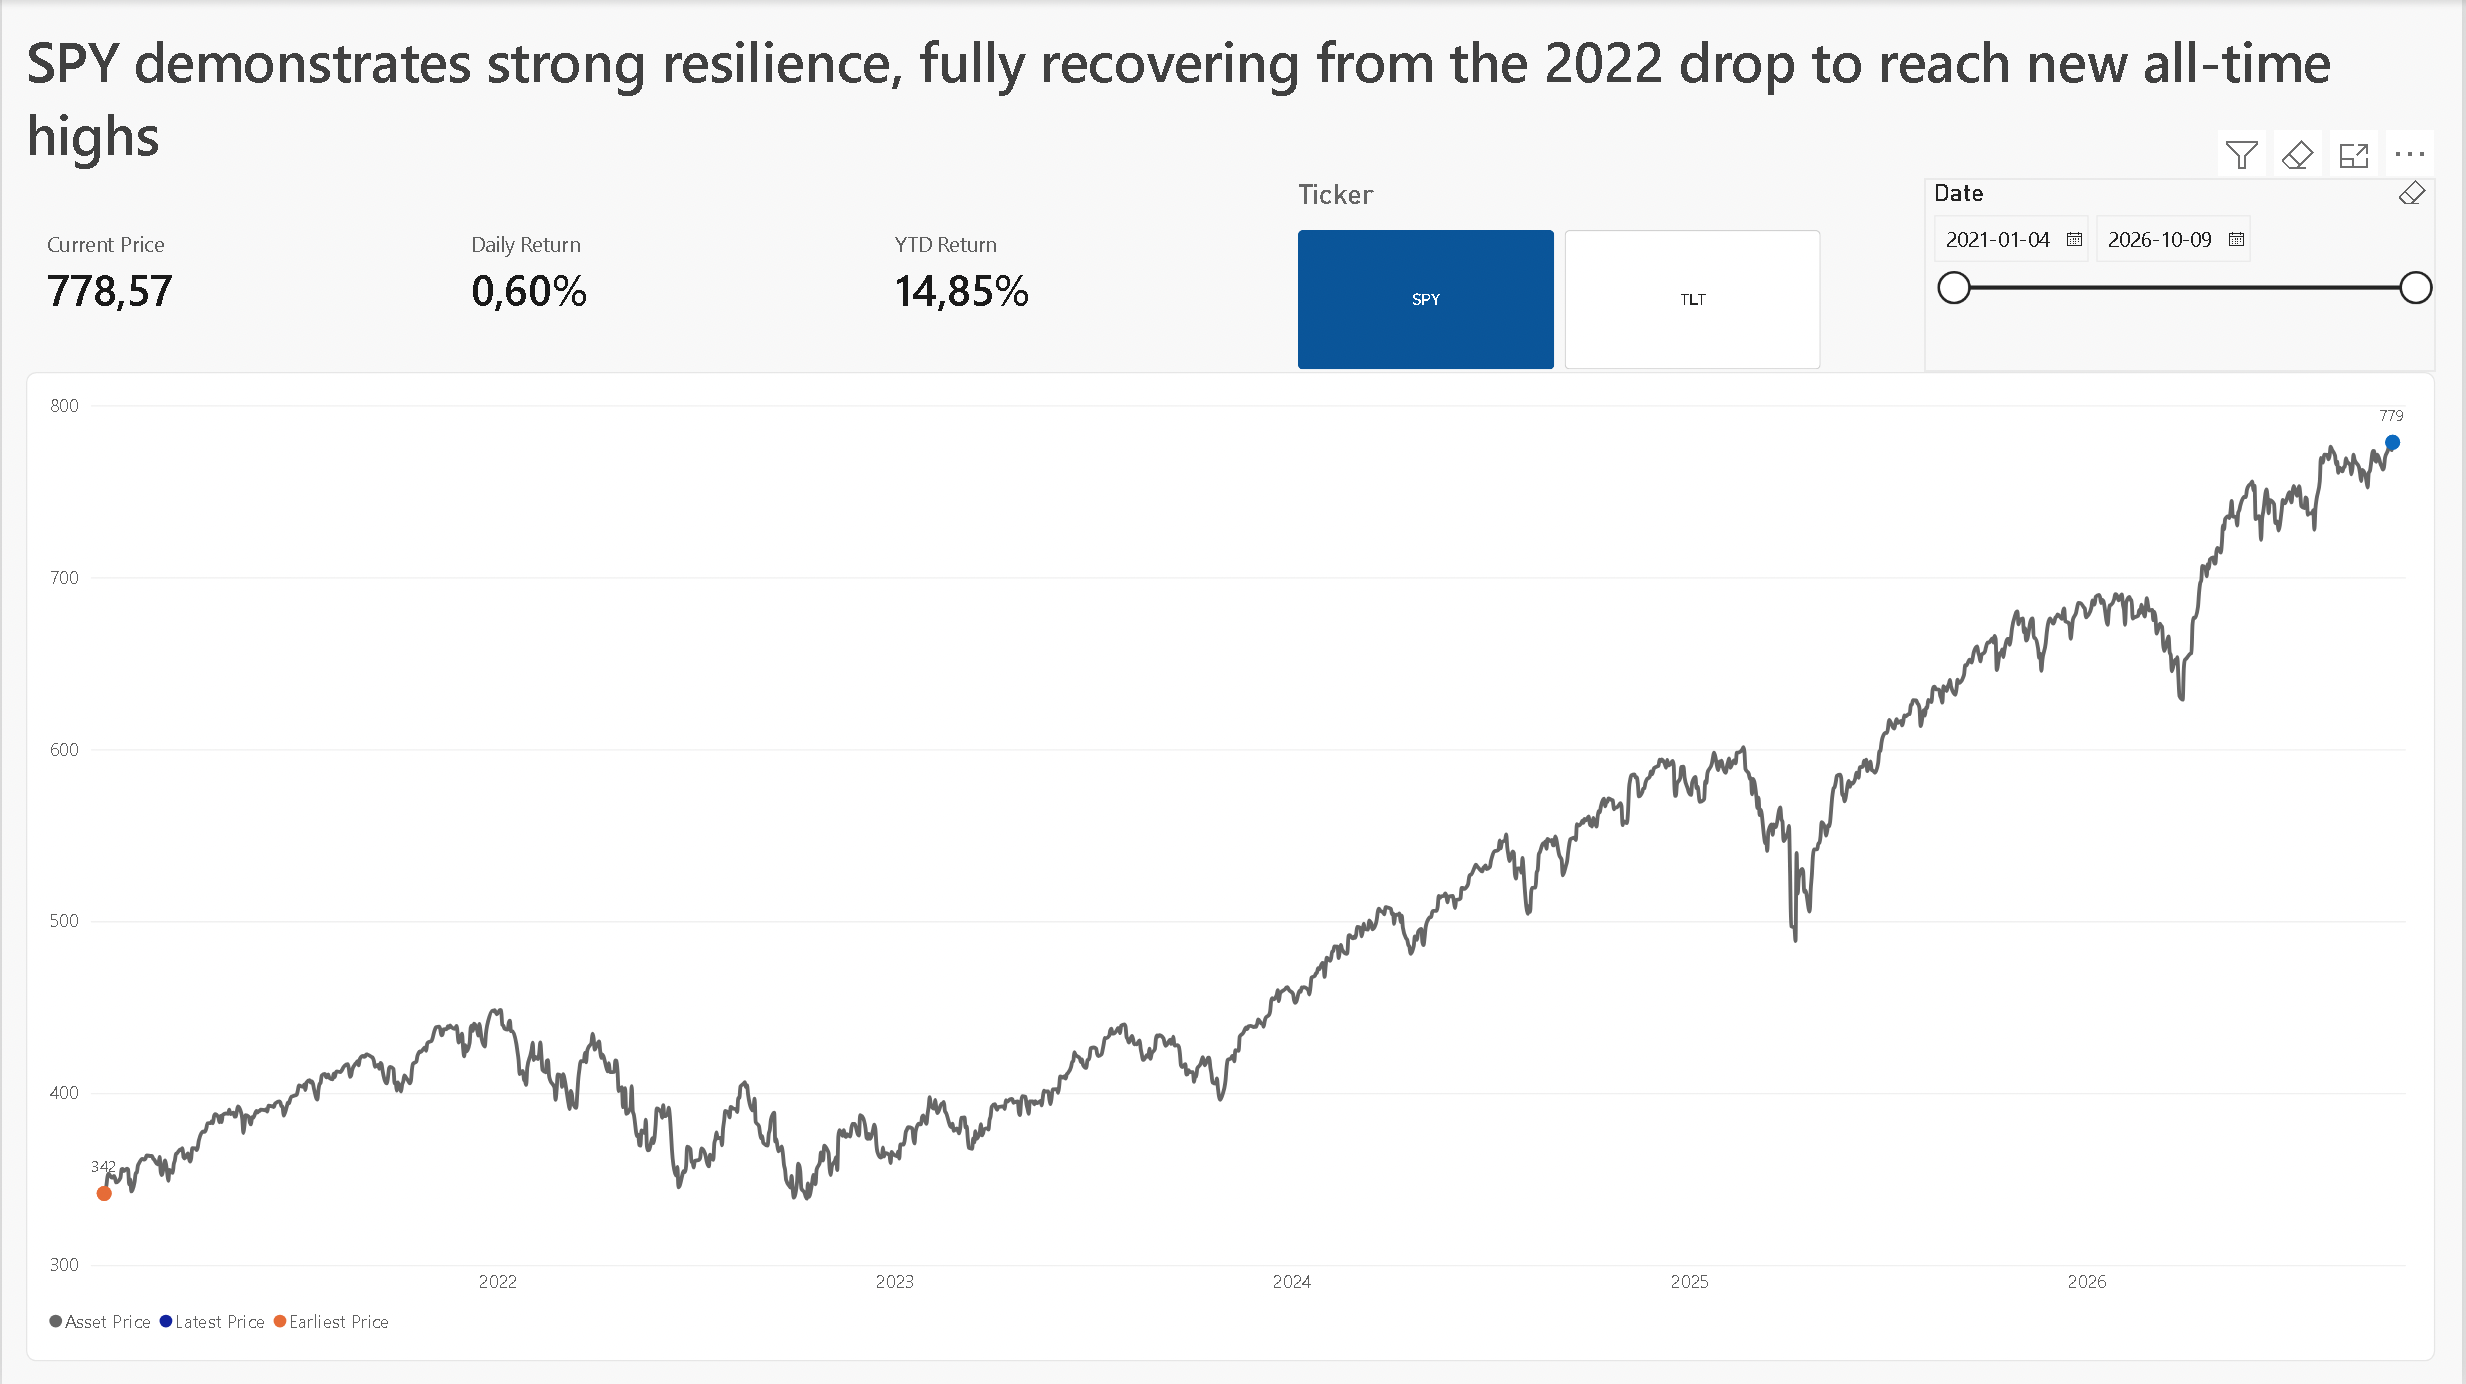

The page's visual inventory and layout, read from the dashboard file:
{"tool":"powerbi","page":{"name":"Executive Dashboard","canvas":[1920,1080],"ordinal":0},"visuals":[{"type":"textbox","box":[19,19,1879.8,120.5],"z":0},{"type":"advancedSlicerVisual","fields":{"Values":["dim_assets.ticker"]},"box":[1011.2,139.6,408.1,150.1],"z":1000},{"type":"slicer","title":"Date","fields":{"Values":["dim_date.Date"]},"box":[1500,139.6,400,150.1],"z":2000},{"type":"cardVisual","fields":{"Data":["_Measures.latest_closing_price"]},"box":[19,139.6,250,150],"z":3000},{"type":"cardVisual","fields":{"Data":["_Measures.daily_return_pct"]},"box":[349.7,139.6,250,150],"z":4000},{"type":"cardVisual","fields":{"Data":["_Measures.ytd_return_pct"]},"box":[680.5,139.6,250,150],"z":5000},{"type":"lineChart","fields":{"Category":["dim_date.Date"],"Y":["_Measures.closing_price","_Measures.chart_last_point","_Measures.chart_first_point"]},"box":[19,289.7,1879.8,771.8],"z":6000}]}

Visuals, with their boxes in screenshot pixels (x1, y1, x2, y2), scaled from the page's 1920x1080 canvas onto the 2466x1384 screenshot:
textbox: <bbox>24, 24, 2439, 179</bbox>
advancedSlicerVisual - dim_assets.ticker: <bbox>1299, 179, 1823, 371</bbox>
"Date" slicer: <bbox>1927, 179, 2440, 371</bbox>
cardVisual - _Measures.latest_closing_price: <bbox>24, 179, 345, 371</bbox>
cardVisual - _Measures.daily_return_pct: <bbox>449, 179, 770, 371</bbox>
cardVisual - _Measures.ytd_return_pct: <bbox>874, 179, 1195, 371</bbox>
lineChart - dim_date.Date x _Measures.closing_price: <bbox>24, 371, 2439, 1360</bbox>
